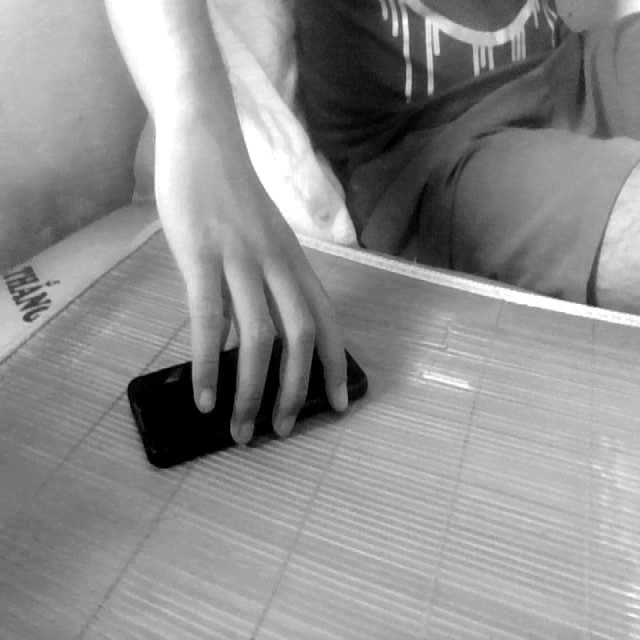phone: (116, 300, 381, 484)
